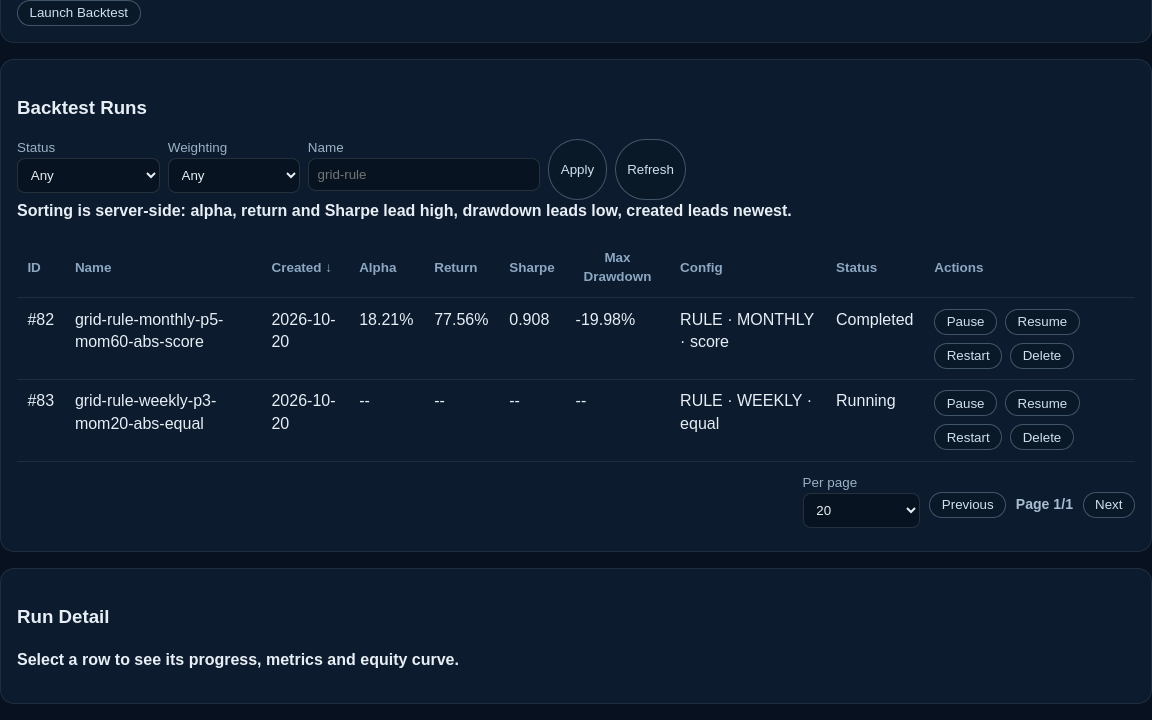
Test: EtfBacktestWorkbenchPage › shows the chunk cursor only after retrieve, then advances it on the 5s poll
(page scrolled)
Click the text "#83".
click(576, 420)  # box [17,379,1135,461]
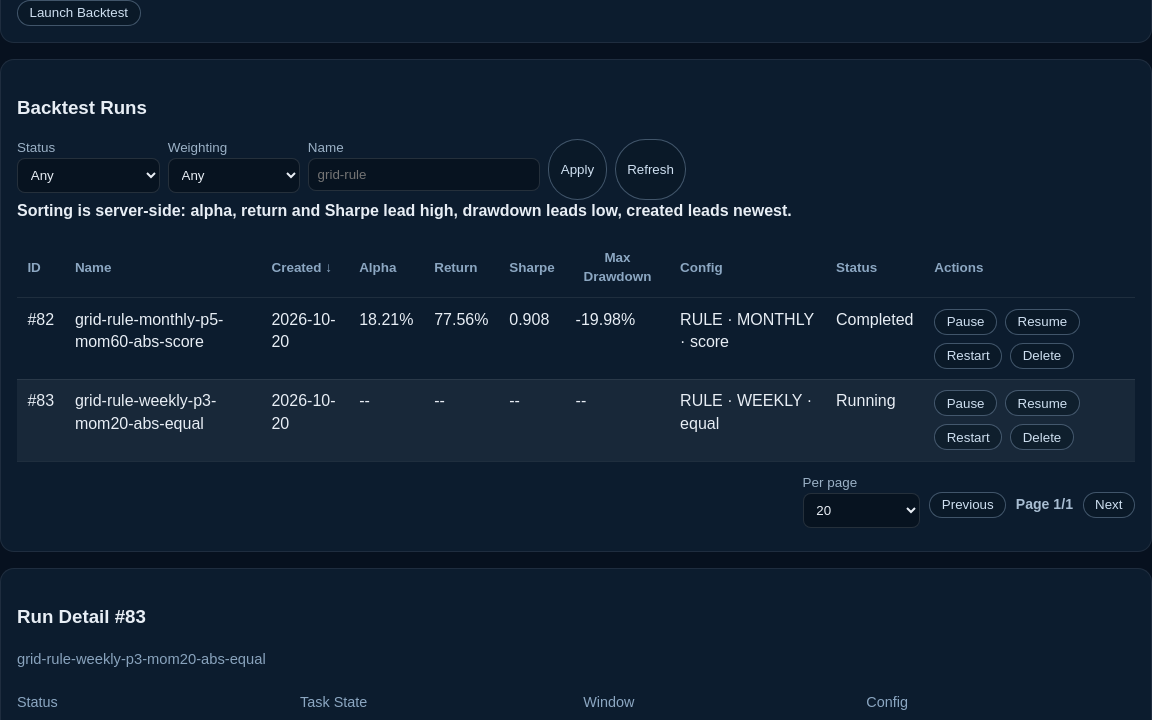
Expected: the text "Task State" is shown, [300,694,367,710]
// A terminal row has nothing left to advance, so its panel un-schedules the poll.
Click the text "#82".
click(576, 339)  # box [17,298,1135,380]
(page scrolled)
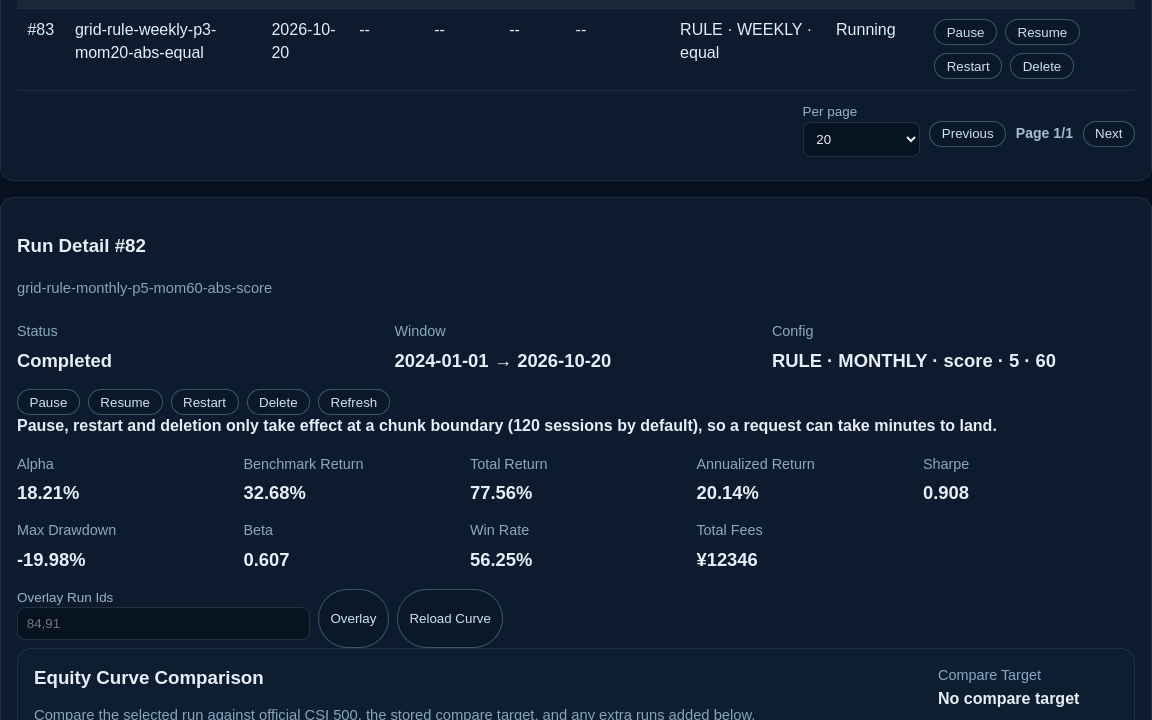
Expected: the text "Completed" is shown, [17,350,112,370]
